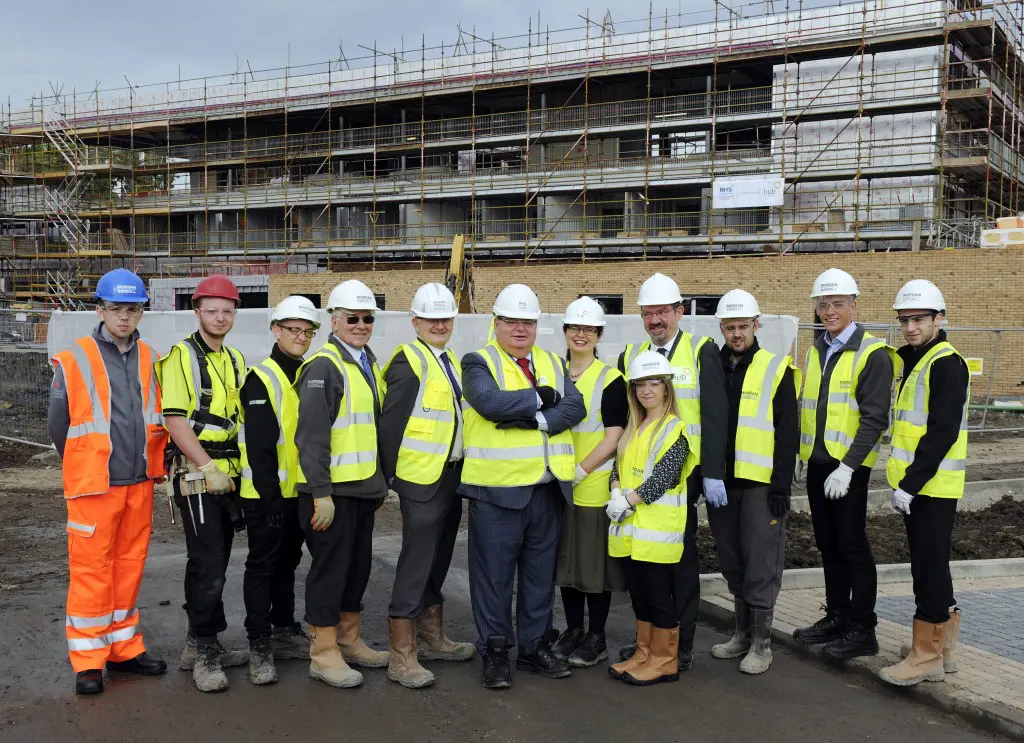Helmet: (883, 272, 960, 355), (484, 279, 548, 358), (185, 271, 247, 351), (631, 268, 688, 355), (323, 274, 385, 353), (400, 279, 464, 354), (802, 263, 863, 339), (92, 264, 151, 342), (264, 290, 324, 364), (707, 282, 766, 356), (555, 291, 610, 367), (618, 348, 678, 393)
Reflective vest: (454, 340, 576, 496), (50, 336, 166, 496), (155, 334, 250, 493), (798, 329, 903, 470), (601, 413, 693, 571), (291, 343, 386, 492), (888, 341, 970, 508), (381, 341, 466, 491), (622, 329, 718, 460), (554, 352, 631, 515), (233, 355, 309, 501), (732, 348, 807, 486)
